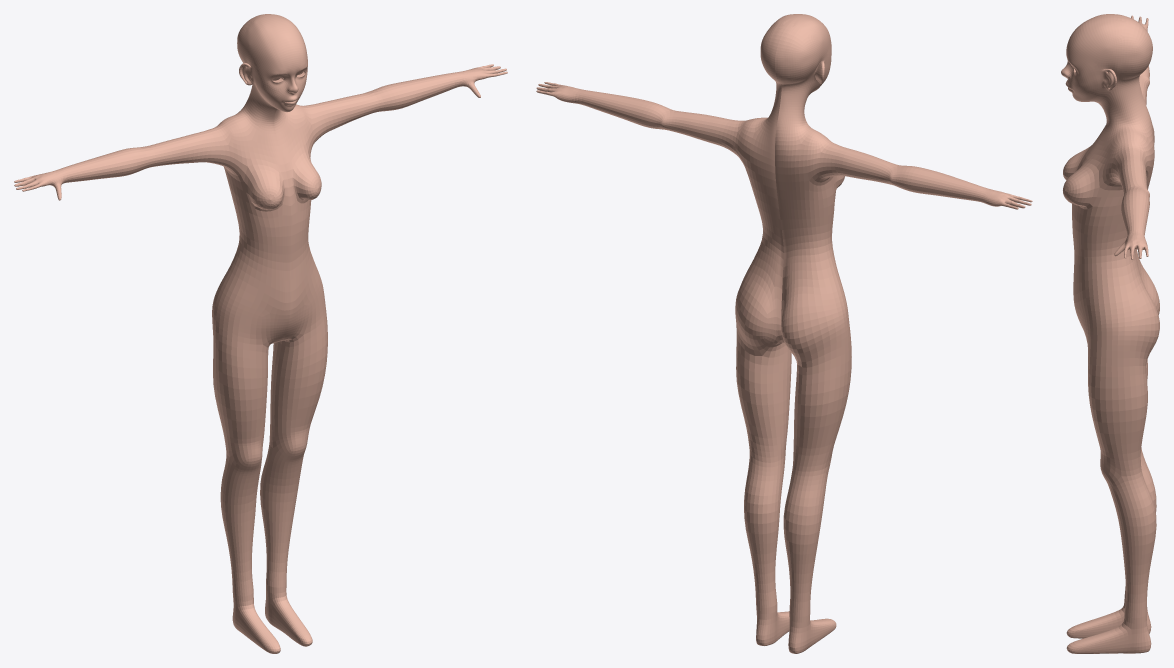
File: modelo_base_femenino_prototipo.fbx
3 views of the same model, side by side, from view 1: azimuth 30°, elevation 25°; view 2: azimuth 150°, elevation 25°; view 3: azimuth 270°, elevation 25° (orthographic).
Visible parts, largest first — view 1: RETOPO CABEZA.002; view 2: RETOPO CABEZA.002; view 3: RETOPO CABEZA.002.
Boxes of the visible parts, <box> form: RETOPO CABEZA.002: <box>14,14,507,653</box>; RETOPO CABEZA.002: <box>536,14,1032,653</box>; RETOPO CABEZA.002: <box>1061,14,1159,653</box>.
Bounding box in the file's own units: 211 × 253 × 36.27.
